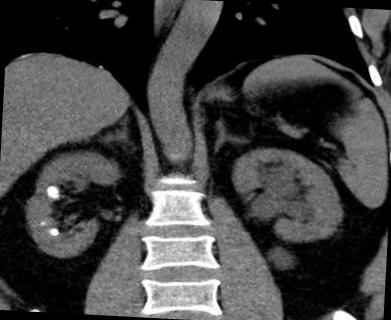Tas_Var: (38, 182, 65, 202), (44, 226, 61, 237), (36, 217, 49, 228)
